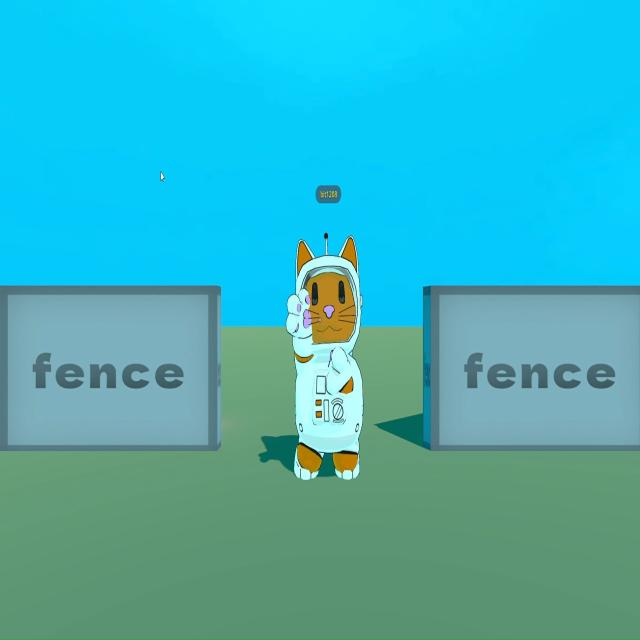human: (285, 224, 365, 482)
